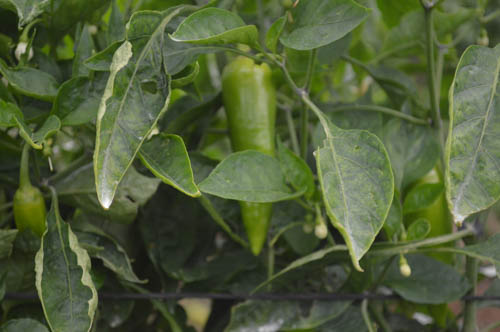ChiliPepper: (219, 56, 277, 253), (402, 166, 452, 328), (16, 190, 49, 246)
